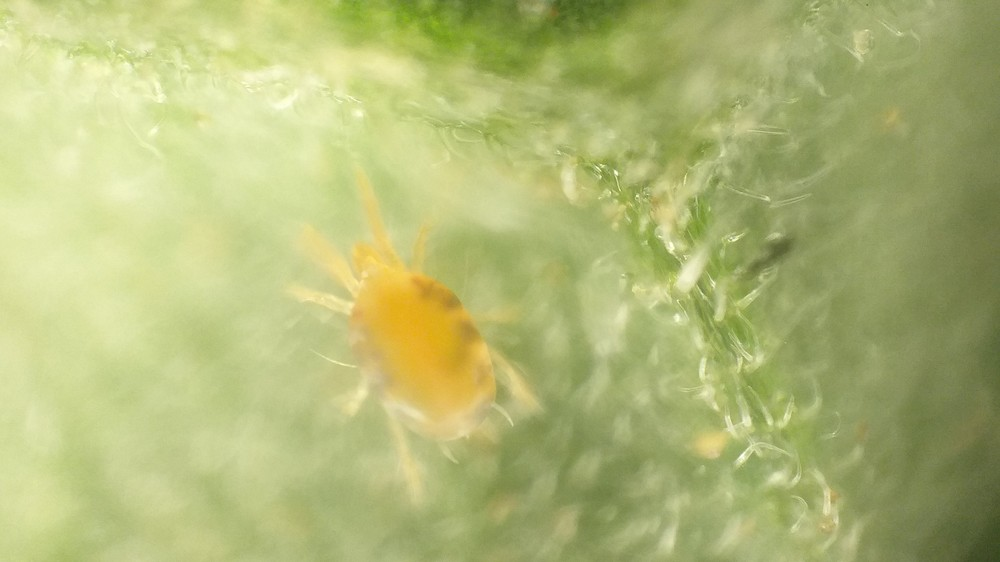Aracnido Rojo: (279, 161, 567, 525)
